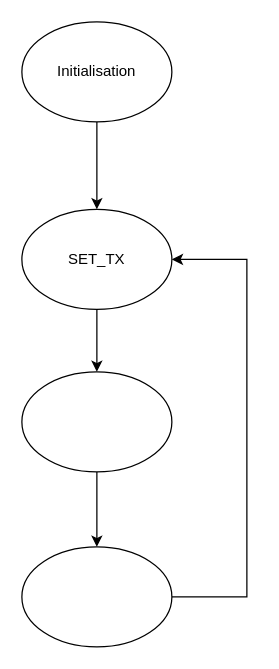
Some shapes in this 279 by 669 pixel diagram are drawn without their labels. Here are the shapes that lost their labels. From the top down, the centre of each, then its label:
the point at 96,421: SEND
the point at 96,596: WAIT_SEND
